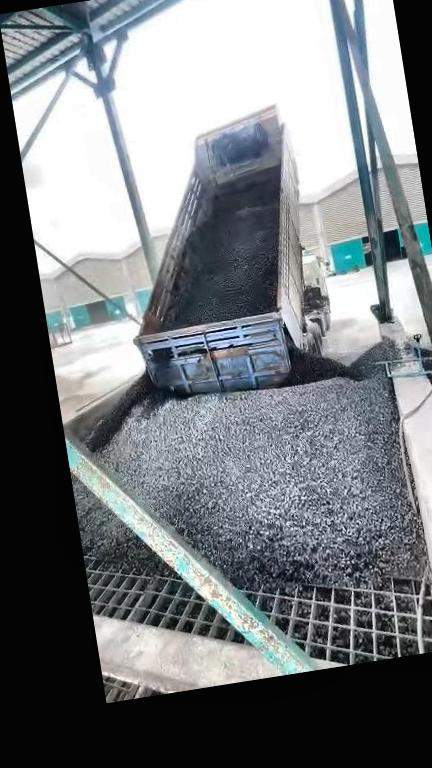gravel: (87, 331, 424, 590), (166, 171, 280, 327), (72, 476, 164, 572), (423, 346, 432, 413)
sand: (56, 373, 126, 417)
